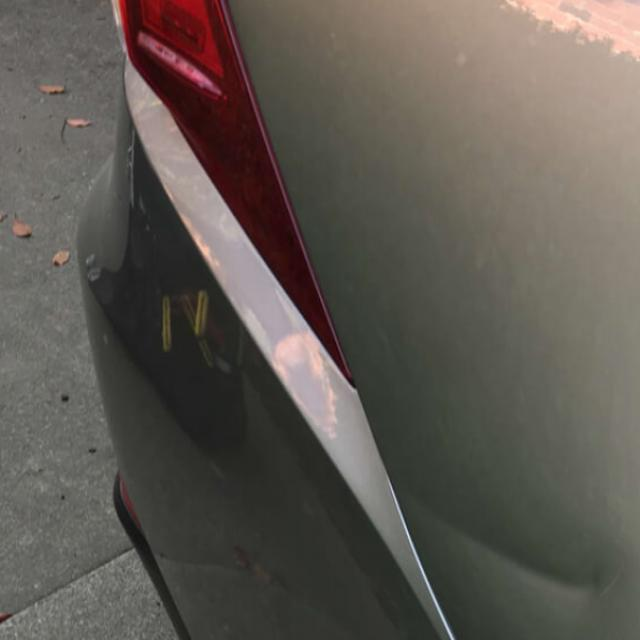dents: (416, 471, 639, 640)
